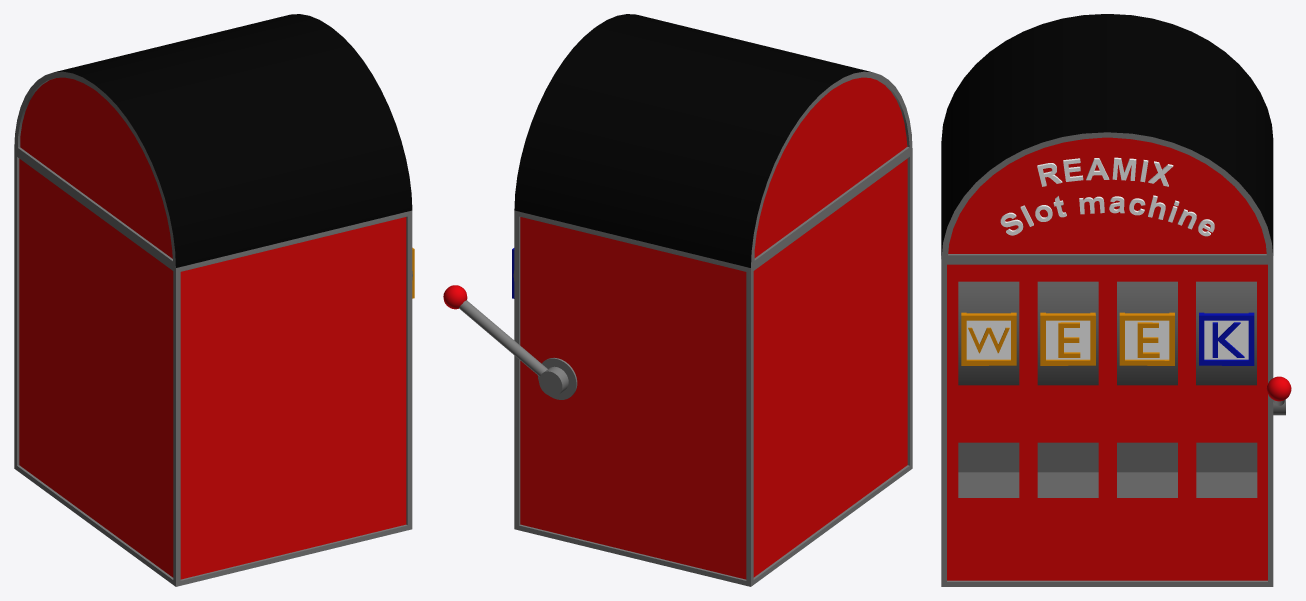
Rendered from machine.fbx.
3 renders of one model, left to right at view 1: azimuth 30°, elevation 25°; view 2: azimuth 150°, elevation 25°; view 3: azimuth 270°, elevation 25°, orthographic. The views are drawn at different scales.
Visible parts, largest first — view 1: Cube.006; view 2: Cube.006, Cylinder.002, Cylinder.001, Cylinder; view 3: Cube.006, Roue1stLetter, Roue2ndLetter, Roue3ndLetter, Roue4ndLetter, 1W, 1E, 1E.001, 1K, Text.023, Text.024, Sphere.
Boxes of the visible parts, <box> form: Cube.006: <box>14,14,412,586</box>; Cube.006: <box>514,14,912,586</box>; Cylinder.002: <box>459,300,547,376</box>; Cylinder.001: <box>539,366,568,396</box>; Cylinder: <box>537,357,577,399</box>; Cube.006: <box>941,14,1273,586</box>; Roue1stLetter: <box>958,281,1019,385</box>; Roue2ndLetter: <box>1037,281,1098,385</box>; Roue3ndLetter: <box>1117,281,1177,385</box>; Roue4ndLetter: <box>1196,281,1256,385</box>; 1W: <box>961,312,1016,365</box>; 1E: <box>1040,312,1095,365</box>; 1E.001: <box>1119,312,1174,365</box>; 1K: <box>1199,312,1254,365</box>; Text.023: <box>1000,195,1214,236</box>; Text.024: <box>1037,157,1173,186</box>; Sphere: <box>1266,376,1291,401</box>.
Bounding box in the file's own units: 1297 × 1809 × 1262.
